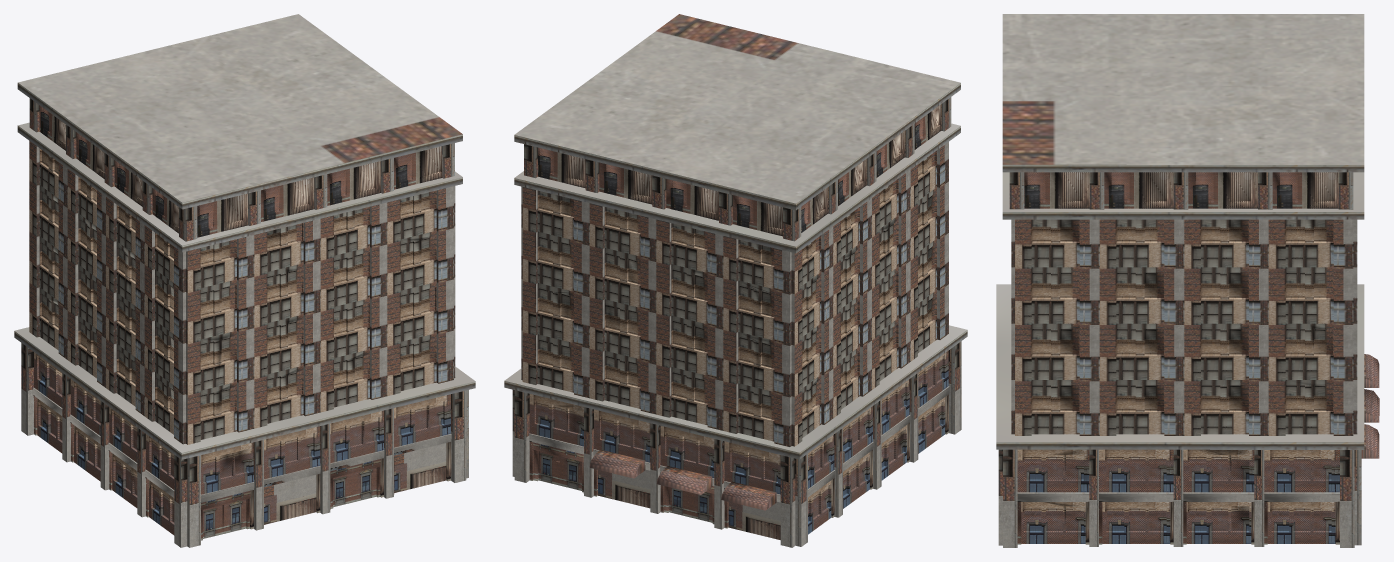
File: building11p6.fbx
3 views of the same model, side by side, from view 1: azimuth 30°, elevation 25°; view 2: azimuth 150°, elevation 25°; view 3: azimuth 270°, elevation 25° (orthographic). The views are drawn at different scales.
Parts seen in each view (by area): view 1: atlas_016; view 2: atlas_016; view 3: atlas_016.
Part boxes in pixels (box(x1,y1,x2,y2)): atlas_016: box(14, 14, 475, 547); atlas_016: box(504, 14, 967, 547); atlas_016: box(996, 14, 1379, 547).
Size of the model in its own units: 7493 by 8403 by 7688.
